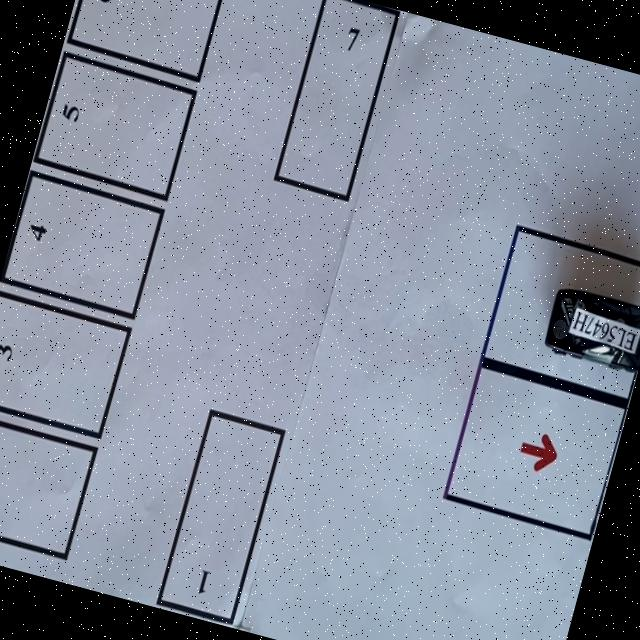car: (535, 274, 640, 380)
